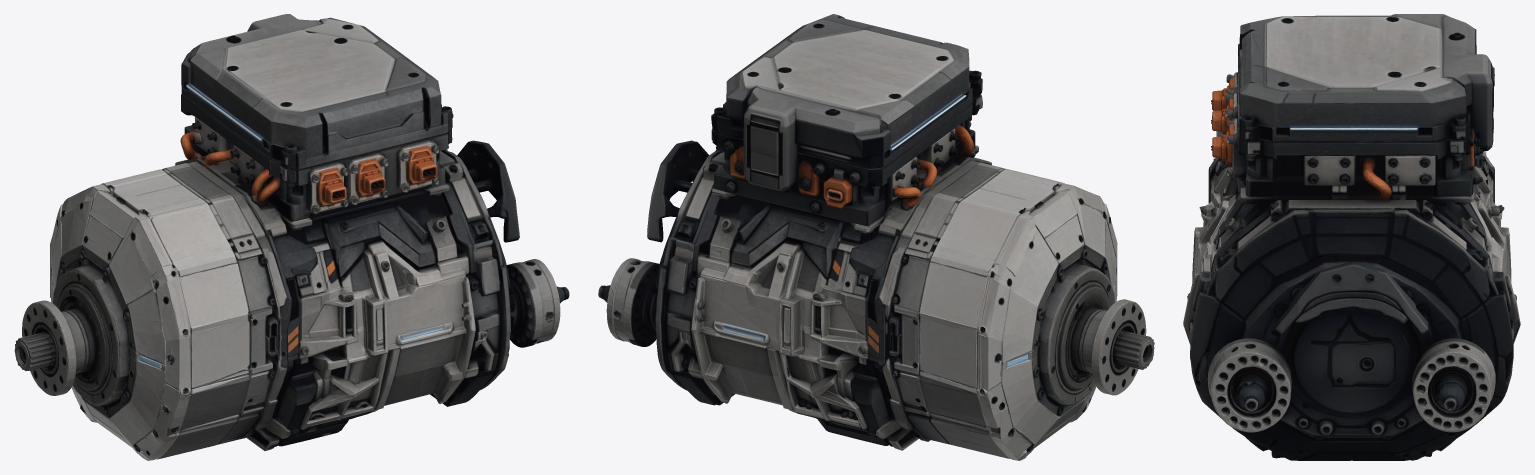
3 views of the same model, side by side, from view 1: azimuth 30°, elevation 25°; view 2: azimuth 150°, elevation 25°; view 3: azimuth 270°, elevation 25° (orthographic). The views are drawn at different scales.
Bounding box in the file's own units: 1 × 0.6448 × 0.5621.
Materials: 1 (1 with a texture image).
